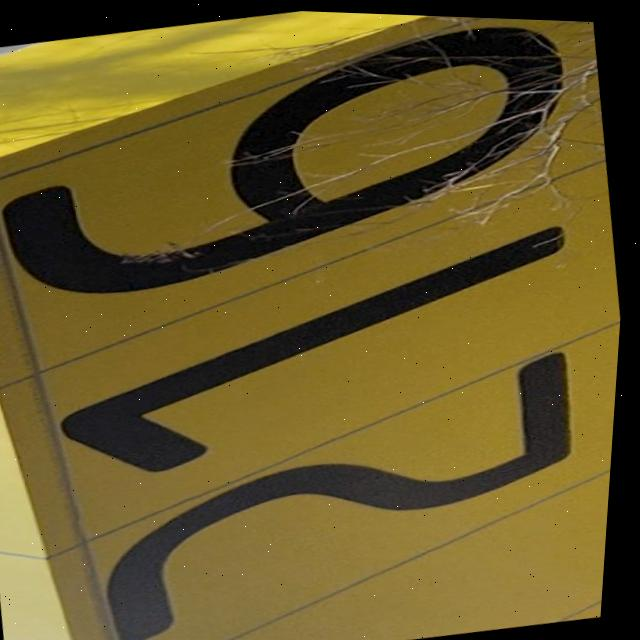character: (0, 0, 603, 331), (26, 199, 603, 505), (62, 324, 615, 640)
